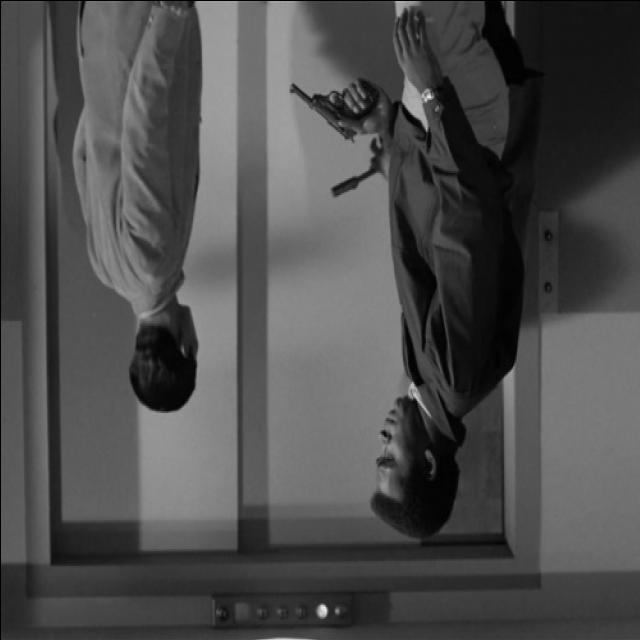weapons: (284, 47, 383, 157)
